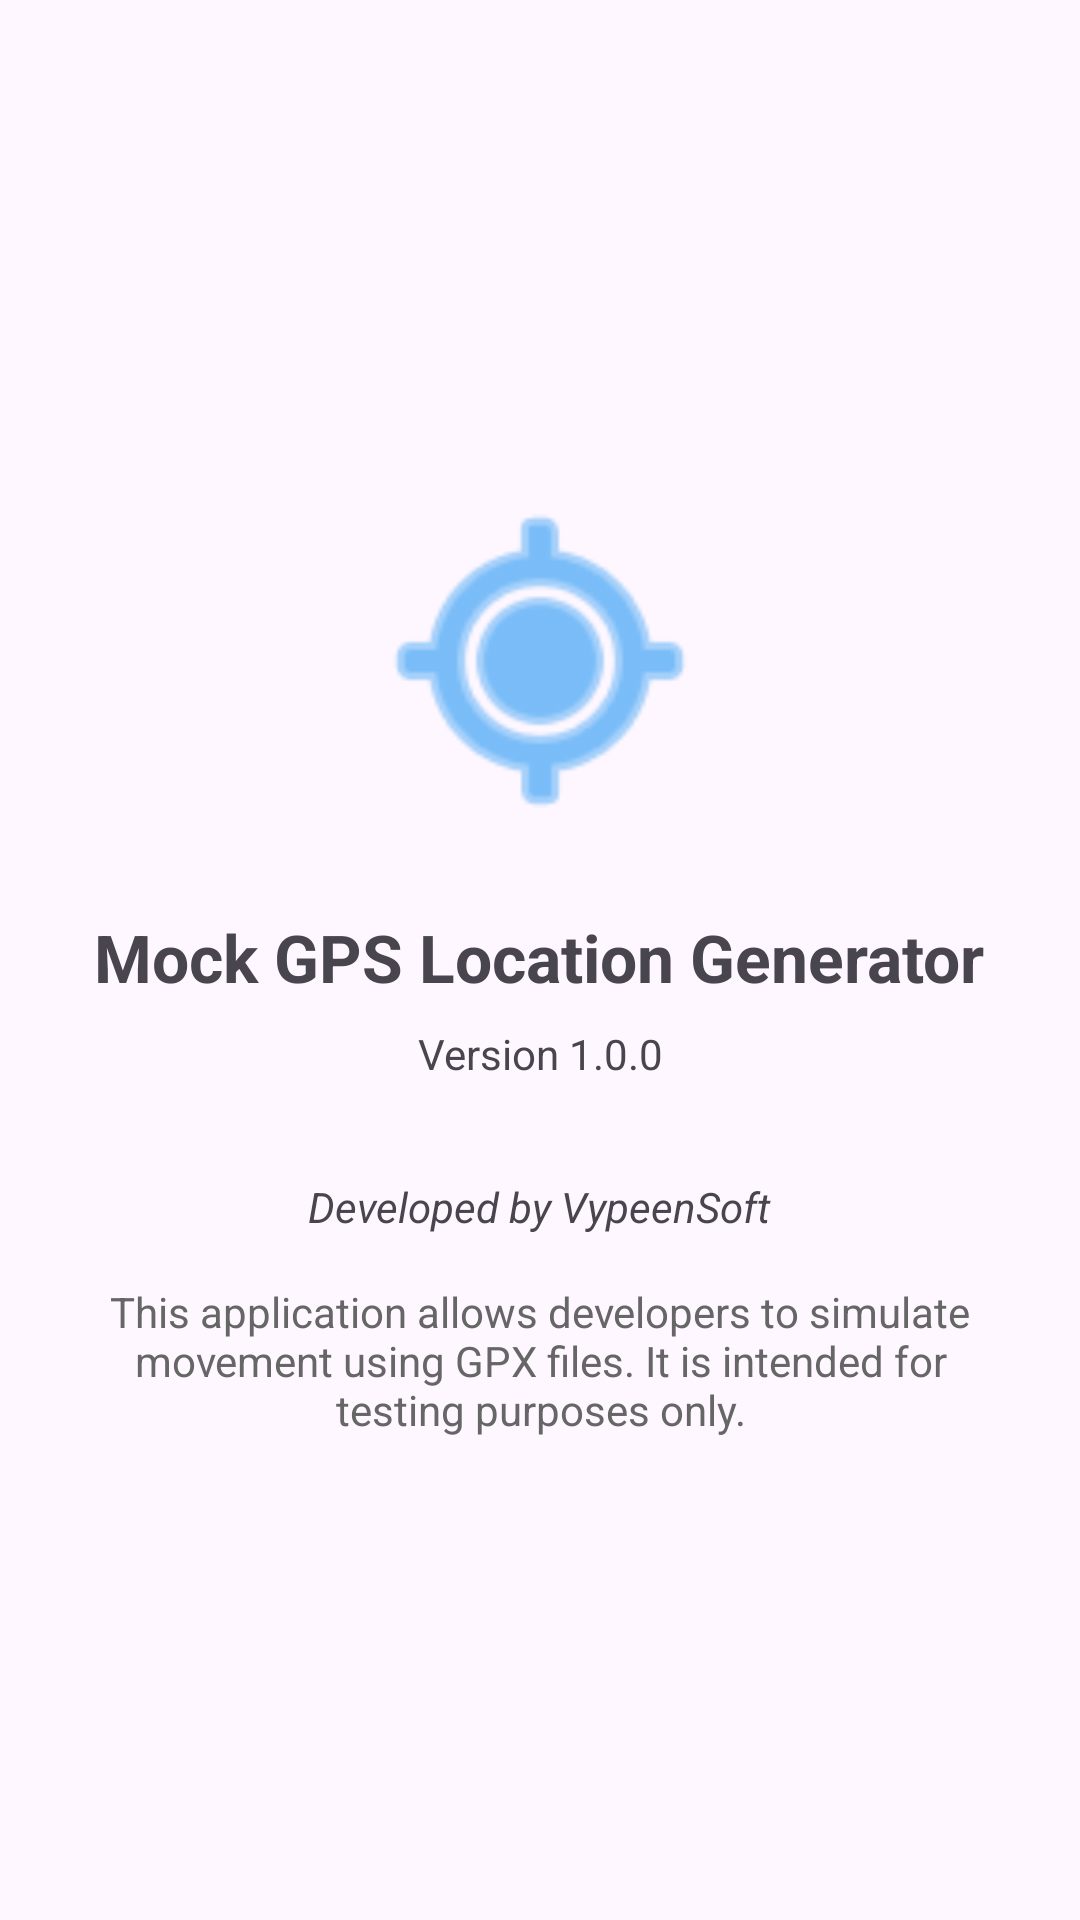

Locate icon controls on the screen. Image size 1080 × 1920, boxes as (x1, y1, x2, y2).
mylocation: (396, 517, 684, 805)
